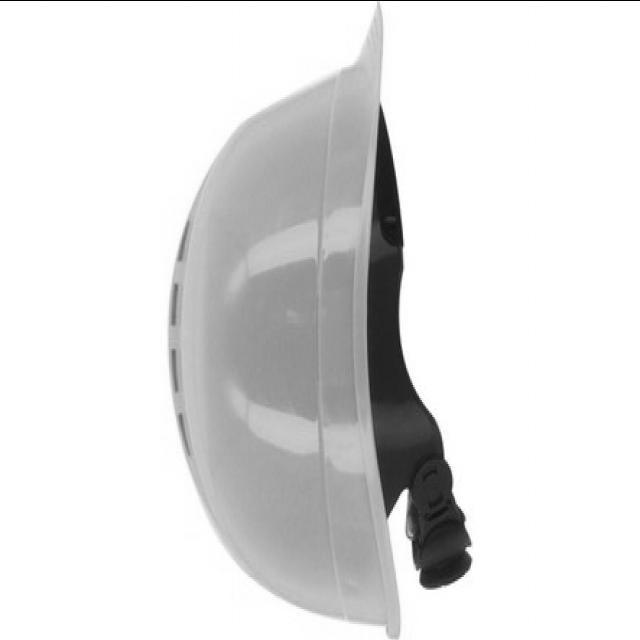safety_helmet: (168, 2, 474, 640)
